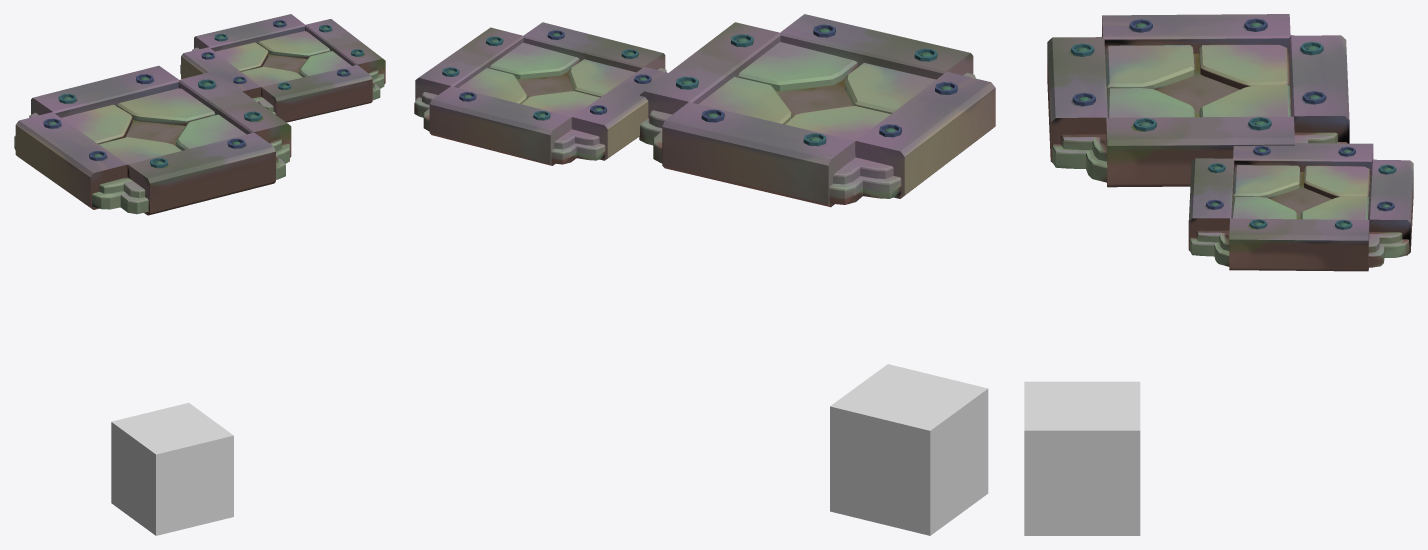
The model's file is home-floor006.fbx.
The picture shows the model from 3 angles, left to right: view 1: azimuth 30°, elevation 25°; view 2: azimuth 150°, elevation 25°; view 3: azimuth 270°, elevation 25°; orthographic projection. The views are drawn at different scales.
Parts seen in each view (by area): view 1: Circle.009, Circle.010, home-floor006; view 2: Circle.009, Circle.010, home-floor006; view 3: Circle.009, Circle.010, home-floor006.
Boxes of the visible parts, x1,y1,x2,y2 form: Circle.009: (14,65,291,215); Circle.010: (180,14,385,122); home-floor006: (111,403,233,535); Circle.009: (639,14,995,207); Circle.010: (414,22,667,165); home-floor006: (830,364,988,535); Circle.009: (1047,14,1349,187); Circle.010: (1188,143,1413,271); home-floor006: (1024,381,1140,535).
Size of the model in its own units: 570 by 550 by 427.
